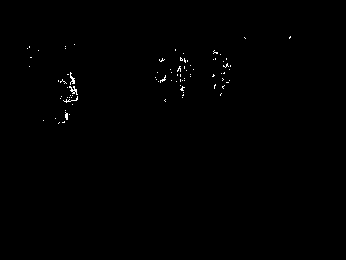person: (55, 71, 80, 126), (209, 46, 233, 98), (174, 50, 195, 102)
